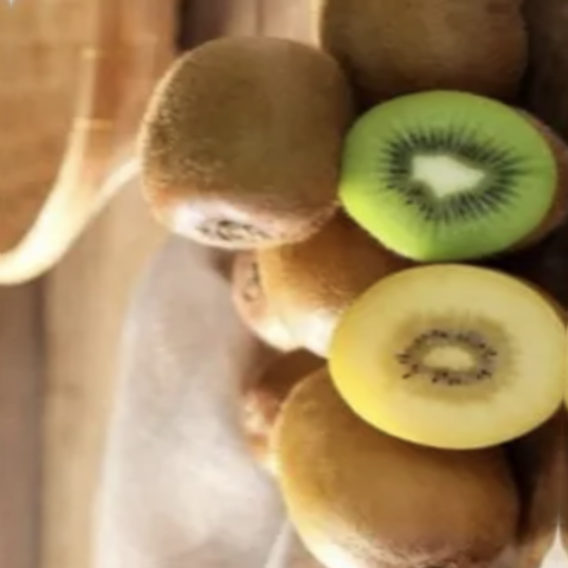kiwi: (226, 348, 563, 568), (126, 15, 350, 270)
